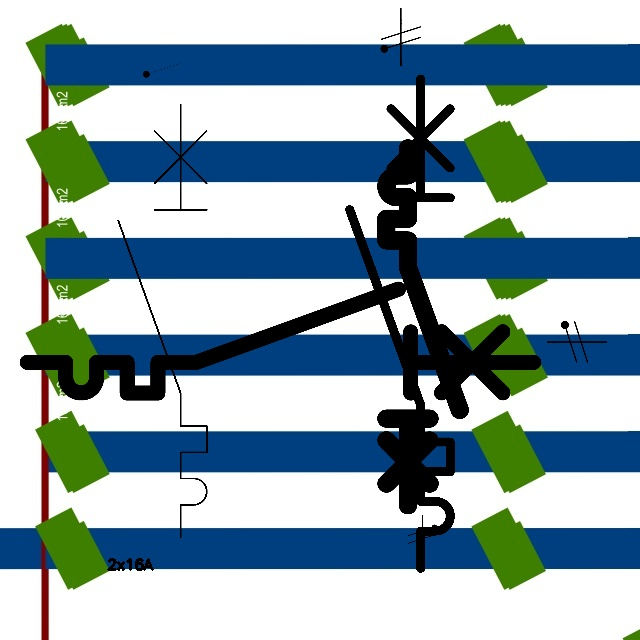interruptor_termomagnetico: (14, 276, 547, 406), (337, 66, 463, 580), (107, 93, 218, 548), (377, 139, 469, 514)
